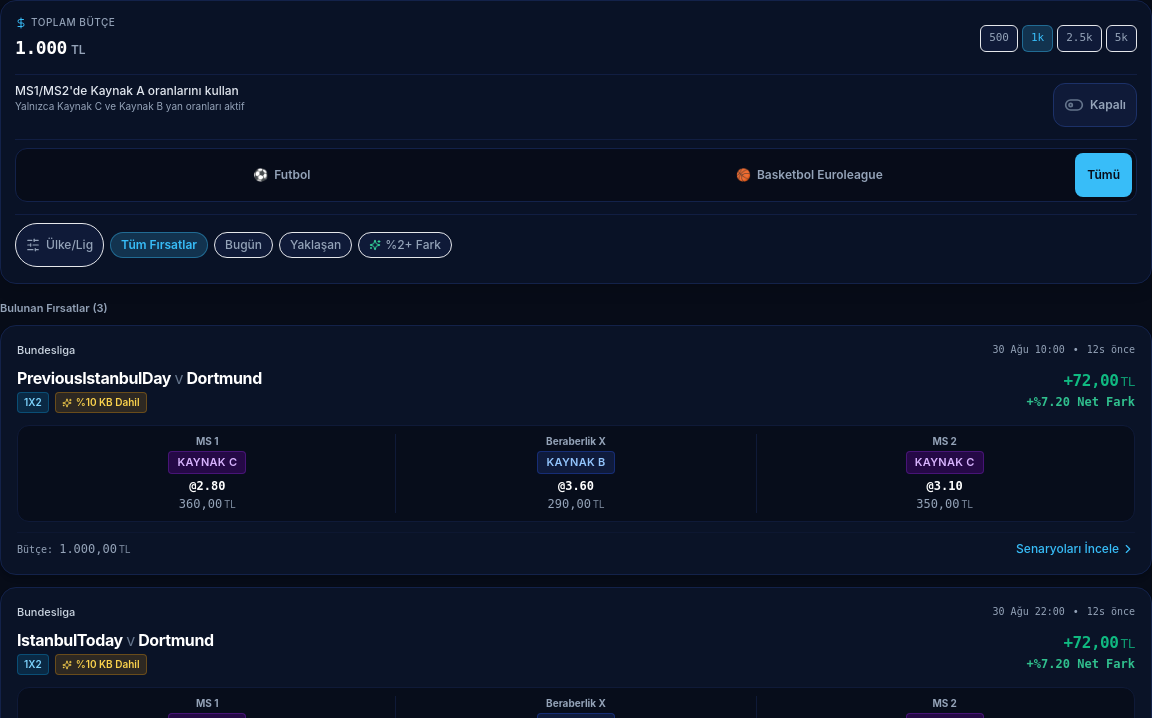
Test: OpportunitiesPage existing quick filters › uses the Europe/Istanbul calendar day for the Today filter
Expected: the heading "IstanbulToday v Dortmund" is shown, [17,630,214,650]
Click the button "Bugün": (244, 245) [214,232,273,258]
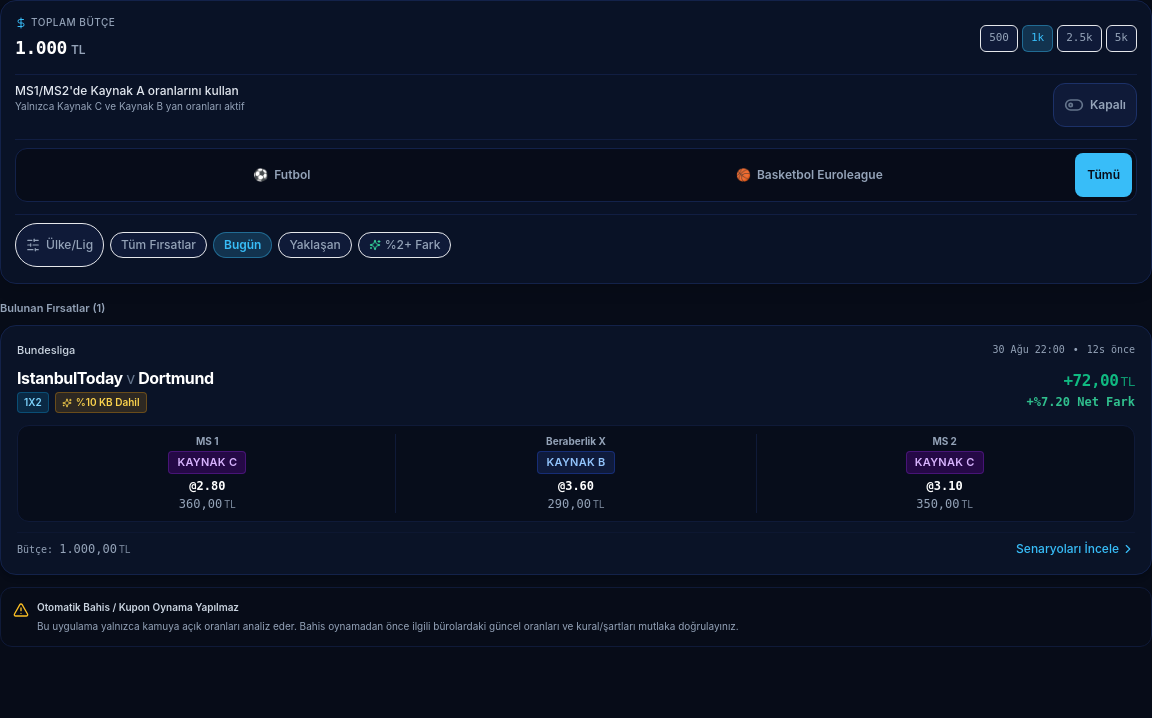
Expected: the heading "IstanbulToday v Dortmund" is shown, [17,368,214,388]
Result: the heading "PreviousIstanbulDay" is gone
